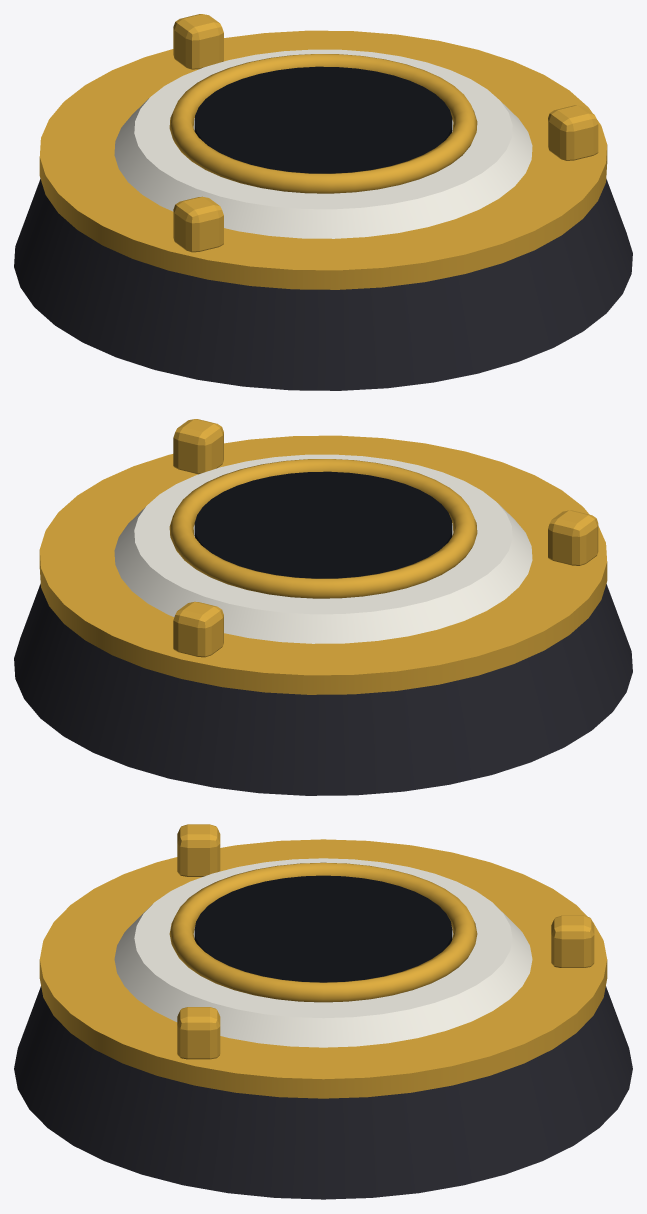
The model's file is spotlight_mount.fbx.
3 renders of one model, top to bottom at view 1: azimuth 30°, elevation 25°; view 2: azimuth 150°, elevation 25°; view 3: azimuth 270°, elevation 25°, orthographic.
Visible parts, largest first — view 1: Plinth, PlinthTrim, Levitator, Emitter, EmitterRing, Prong0, Prong2, Prong1; view 2: Plinth, PlinthTrim, Levitator, Emitter, EmitterRing, Prong0, Prong1, Prong2; view 3: Plinth, PlinthTrim, Levitator, Emitter, EmitterRing, Prong1, Prong2, Prong0.
Boxes of the visible parts, box(x1,y1,x2,y2) form: Plinth: box(14, 179, 632, 390); PlinthTrim: box(39, 30, 607, 289); Levitator: box(114, 49, 532, 238); Emitter: box(194, 66, 452, 173); EmitterRing: box(169, 54, 477, 193); Prong0: box(173, 196, 223, 252); Prong2: box(548, 105, 598, 160); Prong1: box(173, 14, 223, 69); Plinth: box(14, 584, 632, 795); PlinthTrim: box(39, 435, 607, 694); Levitator: box(114, 454, 532, 643); Emitter: box(194, 471, 452, 578); EmitterRing: box(169, 459, 477, 598); Prong0: box(548, 510, 598, 565); Prong1: box(173, 601, 223, 657); Prong2: box(173, 419, 223, 474); Plinth: box(14, 986, 632, 1199); PlinthTrim: box(39, 839, 607, 1098); Levitator: box(114, 858, 532, 1047); Emitter: box(194, 875, 452, 982); EmitterRing: box(169, 862, 477, 1002); Prong1: box(551, 915, 594, 967); Prong2: box(177, 1007, 220, 1059); Prong0: box(177, 824, 220, 876).
Bounding box in the file's own units: 0.72 × 0.19 × 0.72.
